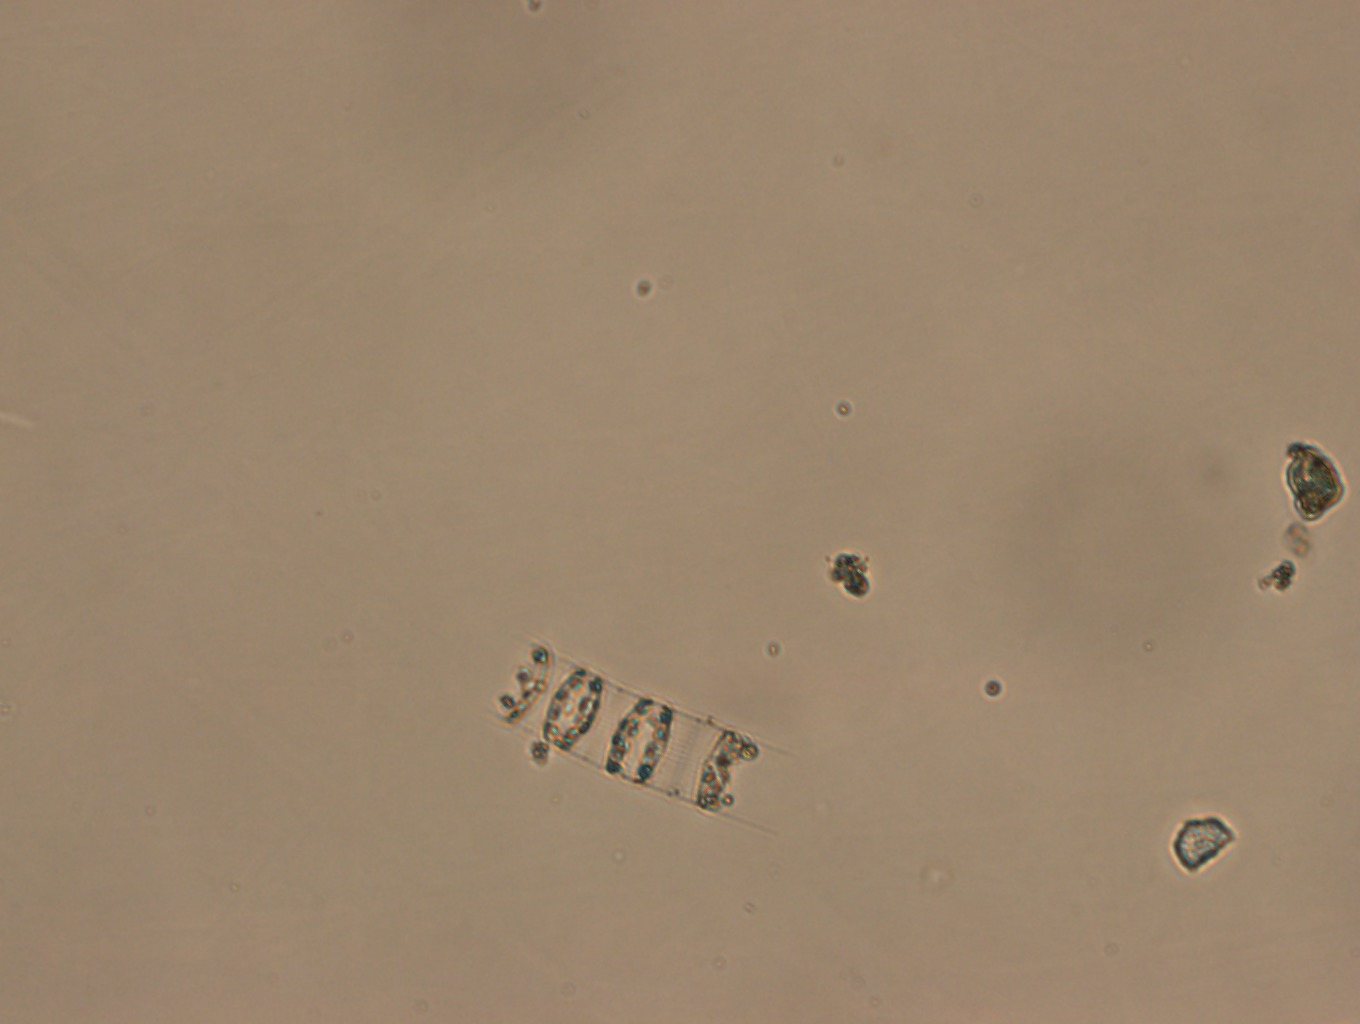skeletonema: (481, 612, 793, 836)
